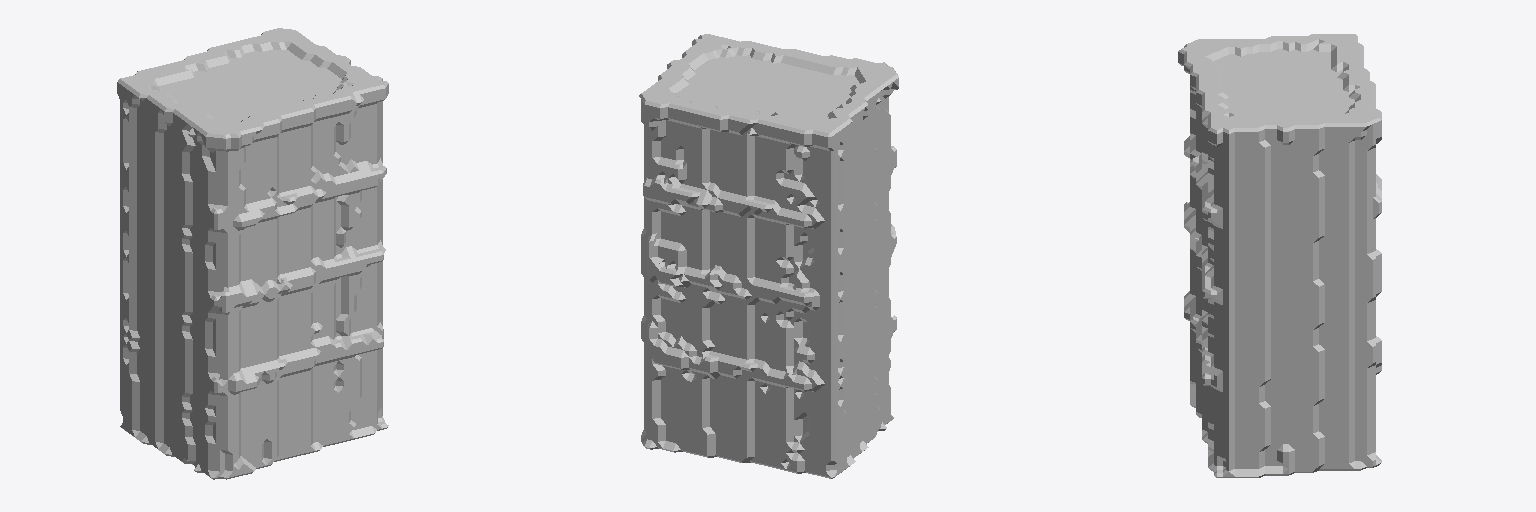
Rendered from gen2_colored.obj.
3 views of the same model, side by side, from view 1: azimuth 30°, elevation 25°; view 2: azimuth 150°, elevation 25°; view 3: azimuth 270°, elevation 25° (orthographic).
Parts seen in each view (by area): view 1: gen2.obj; view 2: gen2.obj; view 3: gen2.obj.
Part boxes in pixels (bbox=[...]): gen2.obj: bbox=[117, 28, 388, 479]; gen2.obj: bbox=[639, 34, 898, 478]; gen2.obj: bbox=[1178, 34, 1381, 477].
Size of the model in its own units: 39 by 64 by 34.